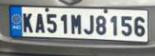1: (108, 14, 118, 36), (58, 13, 68, 33)
5: (44, 11, 57, 33), (119, 14, 132, 36)
6: (132, 15, 145, 37)
8: (94, 14, 106, 35)
A: (33, 12, 44, 33)
J: (82, 14, 94, 35)
K: (21, 12, 32, 33)
M: (68, 13, 81, 34)
